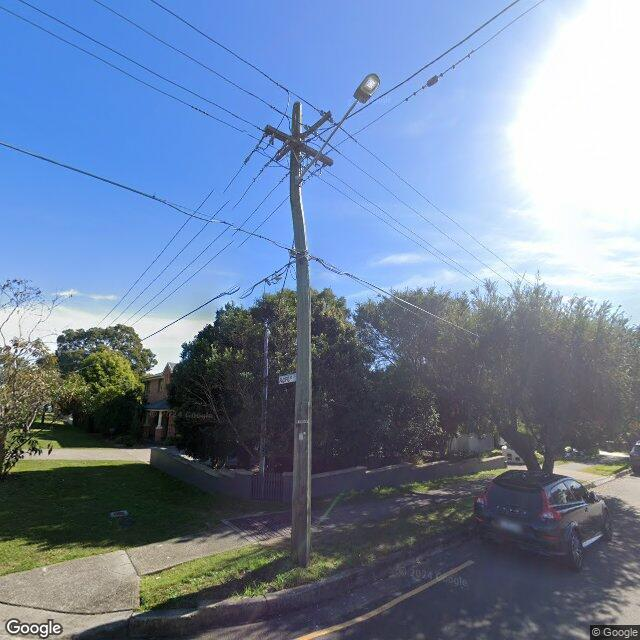crossarm: (274, 109, 333, 162), (265, 124, 334, 167)
steel-pole: (259, 317, 270, 502)
streetlight: (295, 73, 381, 187)
timber-pole: (288, 102, 312, 569)
